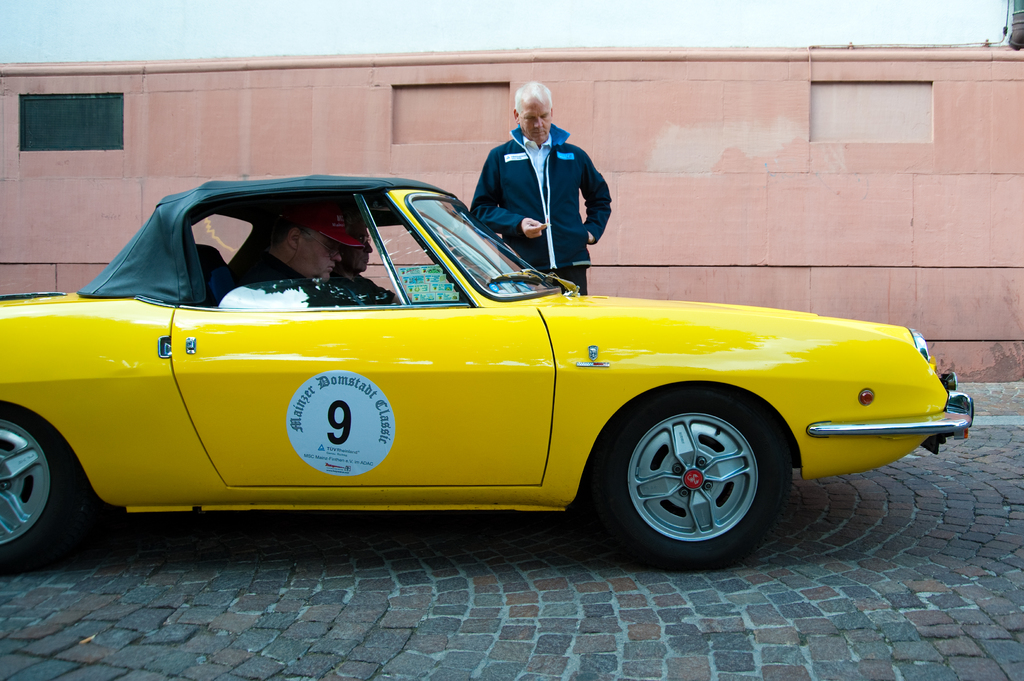face: (263, 210, 344, 284), (512, 81, 558, 147), (347, 209, 374, 284)
